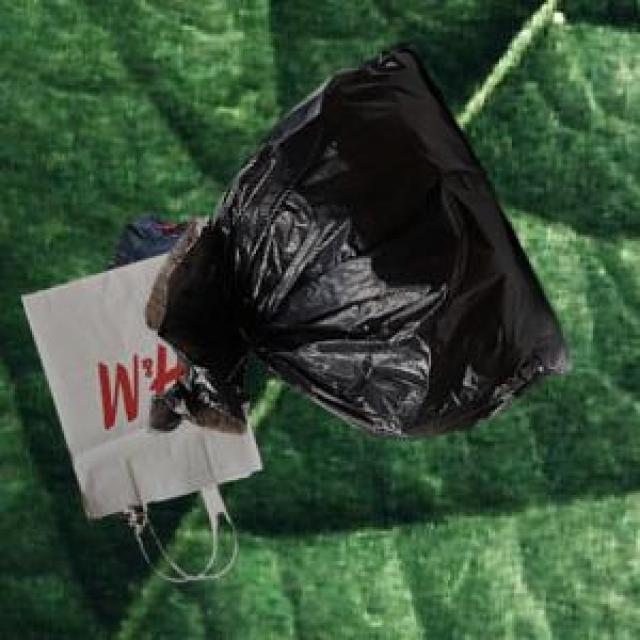miscellaneous trash: (141, 38, 568, 433), (102, 211, 186, 267)
paper: (18, 250, 258, 550)
